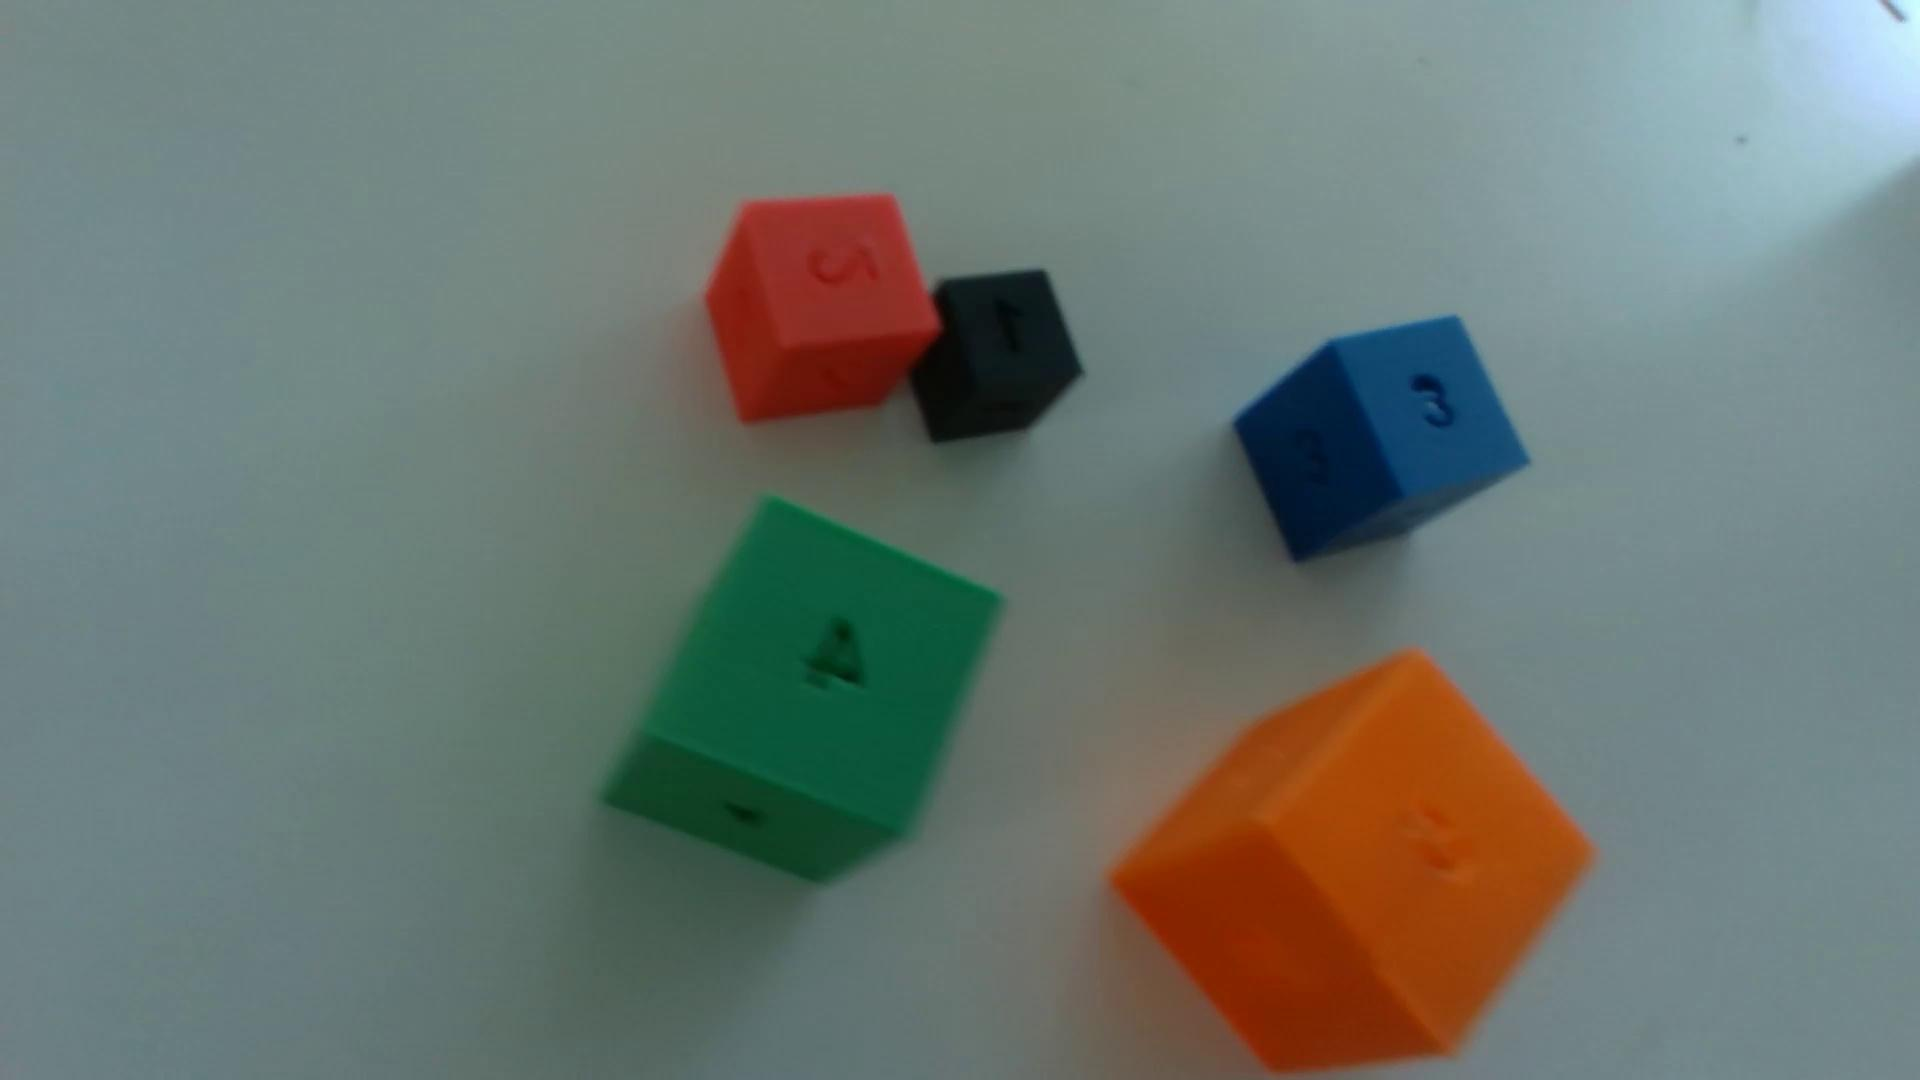black: (911, 270, 1083, 444)
blue: (1233, 316, 1528, 563)
green: (605, 501, 1000, 882)
orange: (1112, 653, 1593, 1073)
red: (705, 195, 939, 425)
